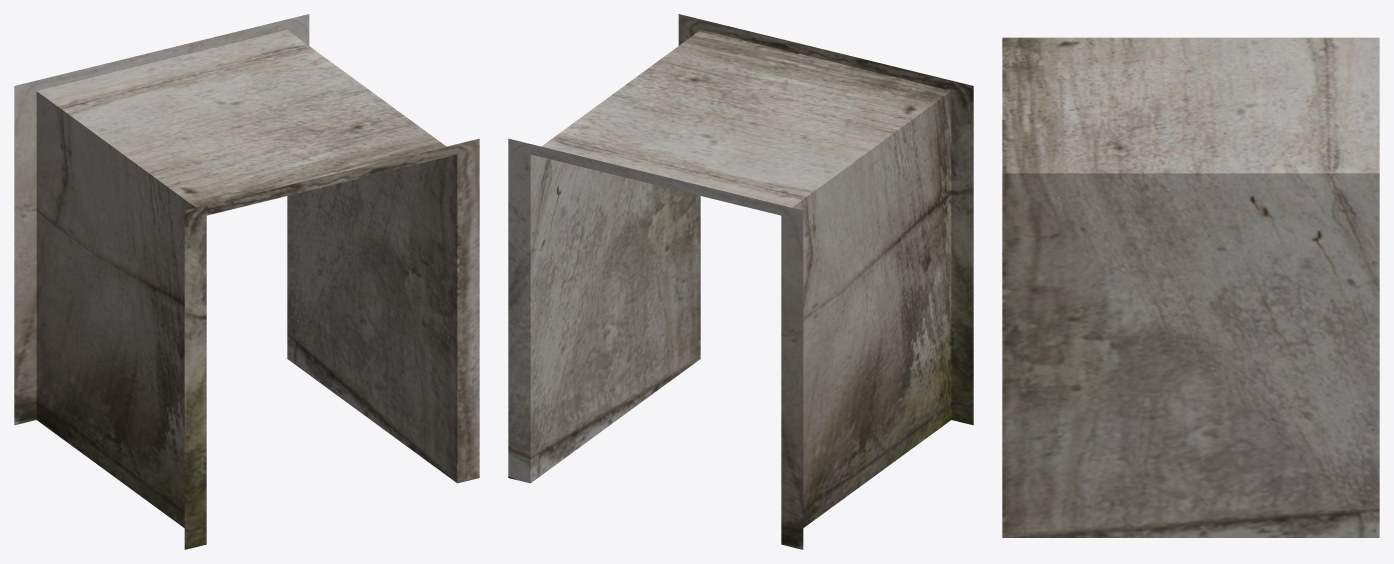
Rendered from InnerTunnelHospital.fbx.
3 renders of one model, left to right at view 1: azimuth 30°, elevation 25°; view 2: azimuth 150°, elevation 25°; view 3: azimuth 270°, elevation 25°, orthographic. The views are drawn at different scales.
Parts seen in each view (by area): view 1: Tunnel; view 2: Tunnel; view 3: Tunnel.
Part boxes in pixels (x1,y1,x2,y2): Tunnel: (14,14,479,549); Tunnel: (508,14,973,549); Tunnel: (1002,37,1379,537).
Bounding box in the file's own units: 1000 × 1100 × 1000.
